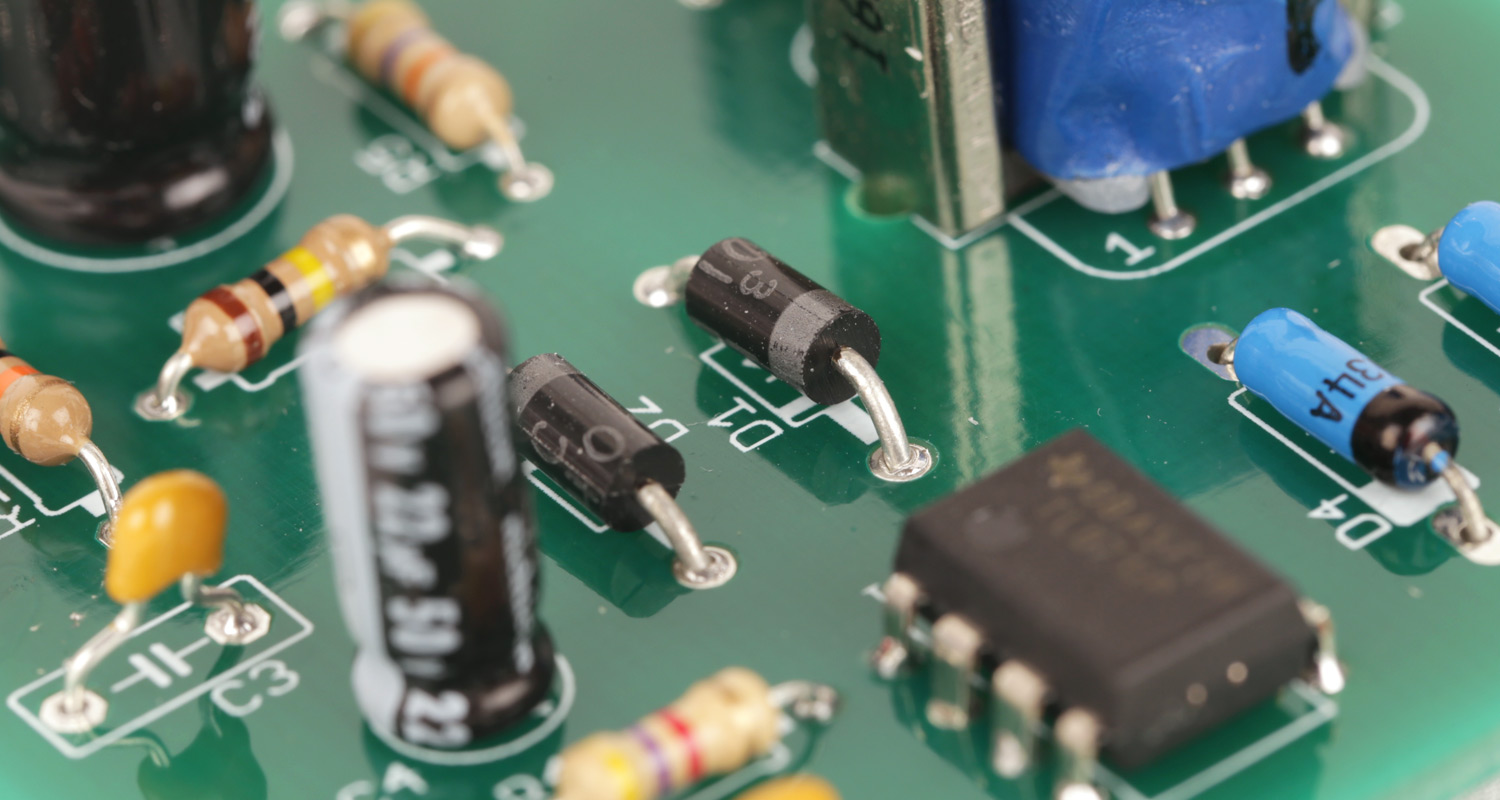capacitor: (238, 260, 622, 790)
